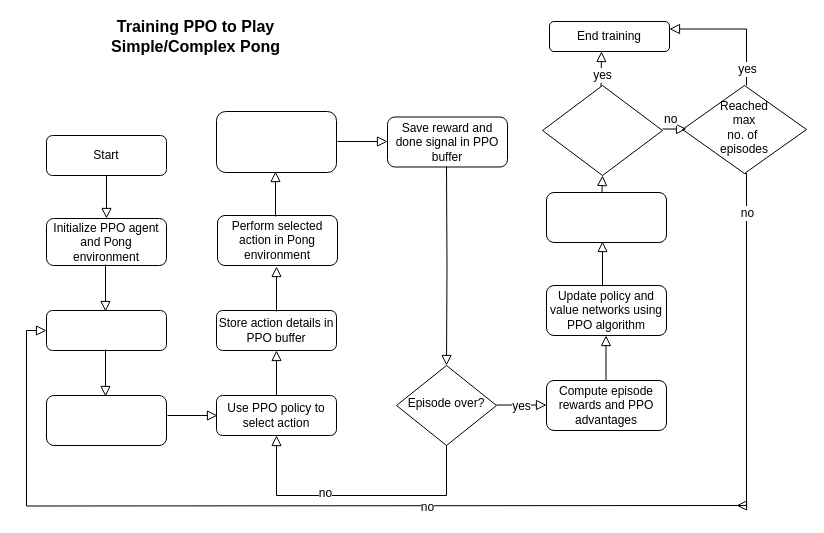
The diagram is 824 pixels wide and 533 high, and some of its shapes have lost their labels. Each missing label, with the centre of its shape:
"Clear experience buffer" goes at [606,217].
"Loop: next episode" goes at [106,330].
"Receive next state, reward and done signal from Pong environment" goes at [276,141].
"Reset Pong environment and get initial state" goes at [106,420].
"Target paddle hits/episode reached?" goes at [602,130].
